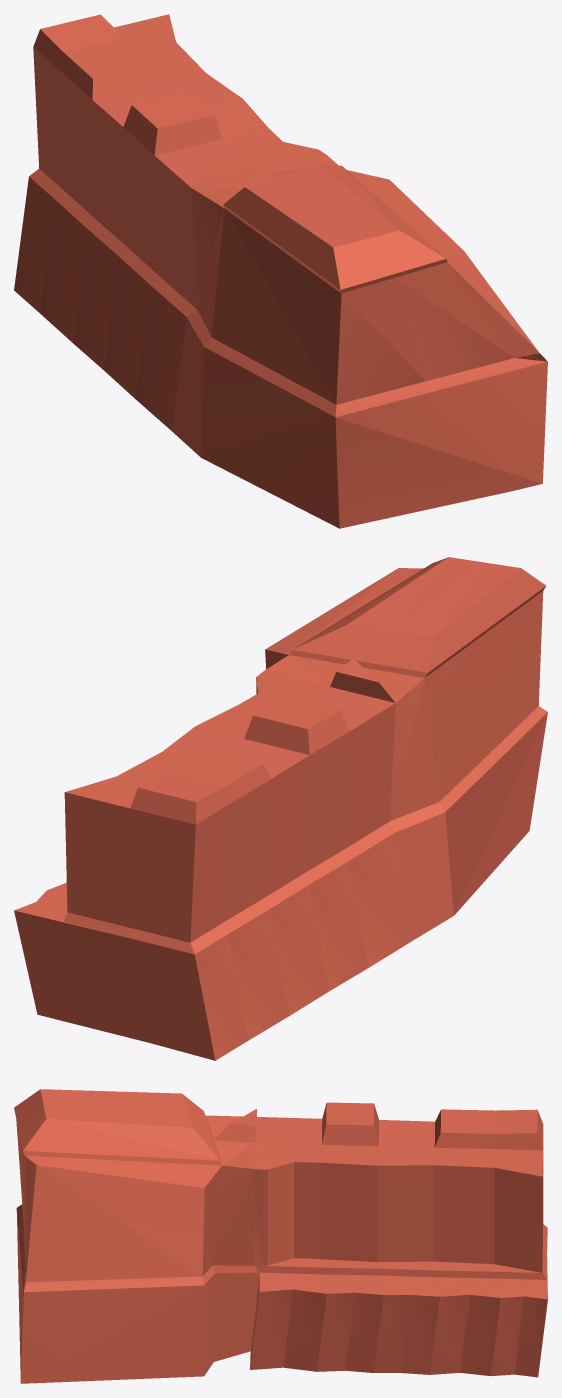
The model's file is Roca7.fbx.
3 renders of one model, top to bottom at view 1: azimuth 30°, elevation 25°; view 2: azimuth 150°, elevation 25°; view 3: azimuth 270°, elevation 25°, orthographic. The views are drawn at different scales.
Parts seen in each view (by area): view 1: Cube.009; view 2: Cube.009; view 3: Cube.009.
Boxes of the visible parts, x1=… form: Cube.009: x1=14, y1=14, x2=547, y2=528; Cube.009: x1=14, y1=557, x2=547, y2=1060; Cube.009: x1=14, y1=1089, x2=547, y2=1383.
Size of the model in its own units: 1984 by 2221 by 4905.
